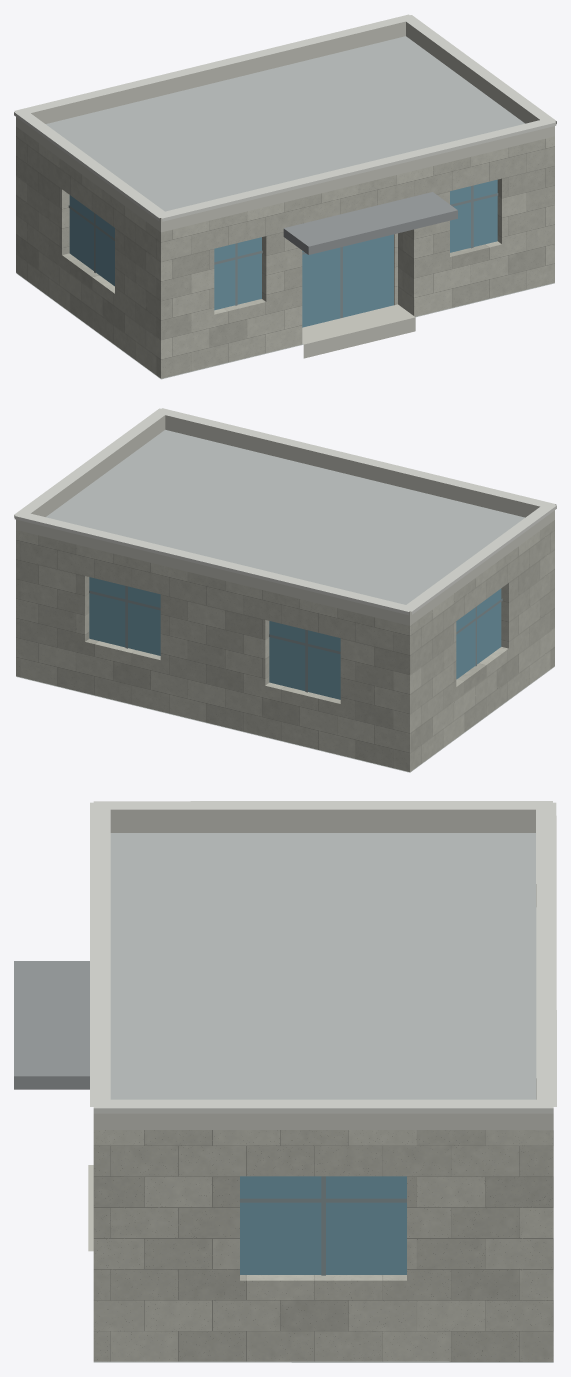
The picture shows the model from 3 angles, top to bottom: view 1: azimuth 30°, elevation 25°; view 2: azimuth 150°, elevation 25°; view 3: azimuth 270°, elevation 25°; orthographic projection. The views are drawn at different scales.
Visible parts, largest first — view 1: osm480660093__wall, unist-batch-osm480660093__parapet, osm480660093__glass, osm480660093__trim, osm480660093__canopy, osm480660093__entranceThreshold_0, osm480660093__frame; view 2: osm480660093__wall, unist-batch-osm480660093__parapet, osm480660093__glass, osm480660093__trim, osm480660093__frame; view 3: unist-batch-osm480660093__parapet, osm480660093__wall, osm480660093__trim, osm480660093__glass, osm480660093__canopy, osm480660093__frame.
Part boxes in pixels (x1,y1,x2,y2): osm480660093__wall: [16, 126, 554, 378]; unist-batch-osm480660093__parapet: [16, 21, 554, 379]; osm480660093__glass: [69, 179, 497, 327]; osm480660093__trim: [14, 14, 556, 221]; osm480660093__canopy: [283, 192, 457, 254]; osm480660093__entranceThreshold_0: [302, 304, 415, 358]; osm480660093__frame: [68, 185, 498, 318]; osm480660093__wall: [16, 520, 554, 771]; unist-batch-osm480660093__parapet: [16, 415, 554, 772]; osm480660093__glass: [89, 577, 501, 699]; osm480660093__trim: [14, 408, 556, 615]; osm480660093__frame: [89, 586, 502, 692]; unist-batch-osm480660093__parapet: [93, 809, 553, 1362]; osm480660093__wall: [93, 1130, 553, 1361]; osm480660093__trim: [90, 801, 556, 1113]; osm480660093__glass: [240, 1176, 406, 1274]; osm480660093__canopy: [14, 961, 89, 1089]; osm480660093__frame: [240, 1176, 406, 1275].
Bounding box in the file's own units: 12.8 × 5.35 × 9.56.
Materials: 7 (1 with a texture image).
